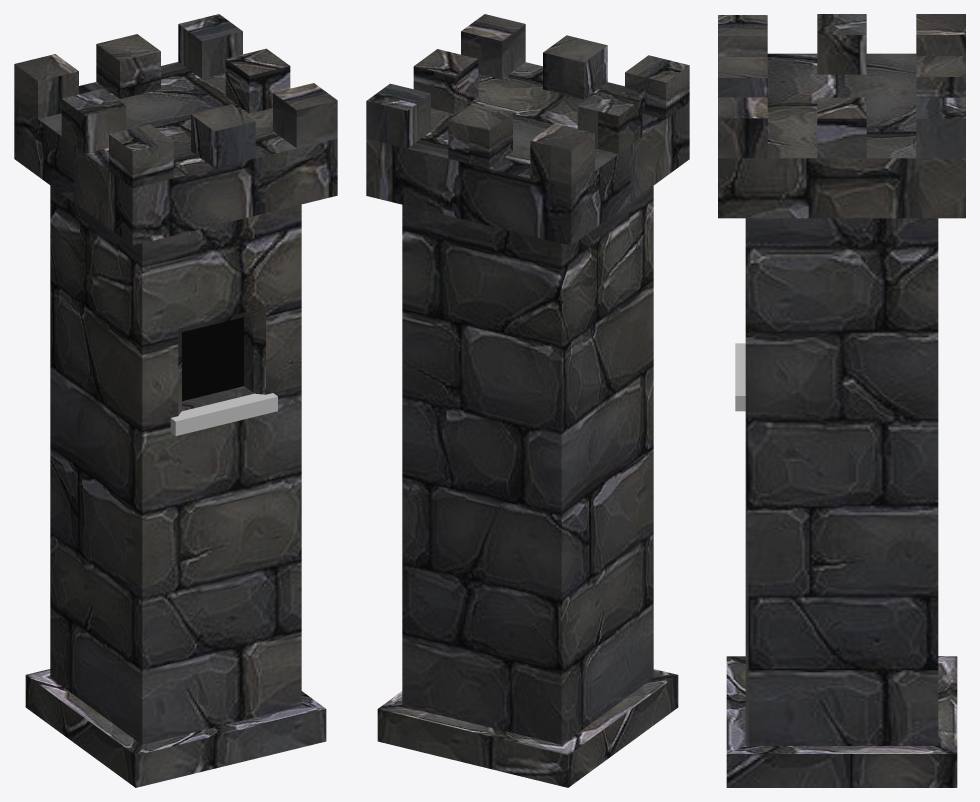
The model's file is Tower.fbx.
The picture shows the model from 3 angles, left to right: view 1: azimuth 30°, elevation 25°; view 2: azimuth 150°, elevation 25°; view 3: azimuth 270°, elevation 25°; orthographic projection. The views are drawn at different scales.
Parts seen in each view (by area): view 1: Tower; view 2: Tower; view 3: Tower.
Part boxes in pixels (box(x1,y1,x2,y2)): Tower: box(14, 14, 337, 787); Tower: box(366, 14, 689, 787); Tower: box(718, 14, 965, 787).
Bounding box in the file's own units: 4.62 × 13.84 × 4.62.
